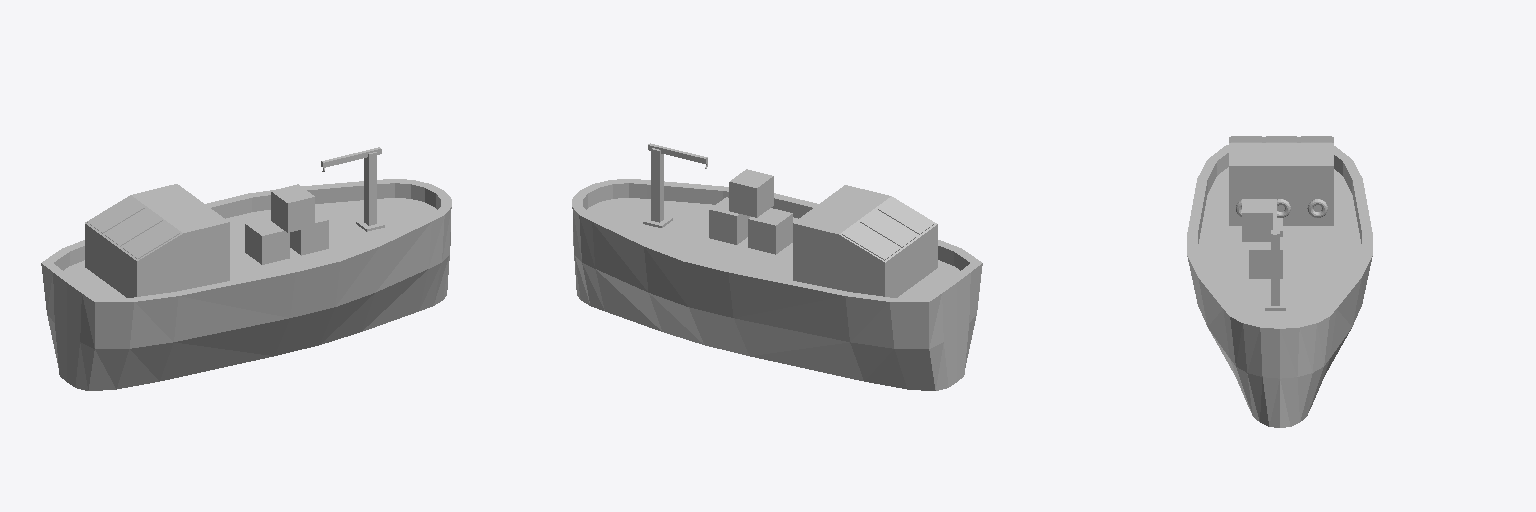
Rendered from Tugboat_1362.obj.
3 renders of one model, left to right at view 1: azimuth 30°, elevation 25°; view 2: azimuth 150°, elevation 25°; view 3: azimuth 270°, elevation 25°, orthographic.
Visible parts, largest first — view 1: Torus003, Box003, Box002, Box001; view 2: Torus003, Box003, Box002, Box001; view 3: Torus003, Box003, Box001.
Part boxes in pixels (x1,y1,x2,y2): Torus003: (41,147,451,390); Box003: (271,184,314,232); Box002: (245,218,289,264); Box001: (290,210,328,255); Torus003: (572,143,982,390); Box003: (729,169,773,217); Box002: (748,208,792,254); Box001: (709,197,750,244); Torus003: (1187,136,1372,427); Box003: (1242,199,1276,241); Box001: (1249,237,1282,278).
Bounding box in the file's own units: 41.48 × 16.85 × 17.66.